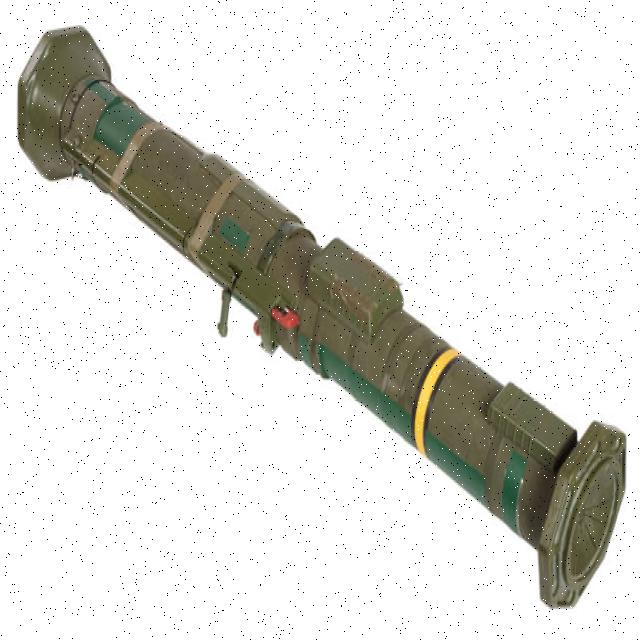bazooka: (16, 14, 638, 627)
